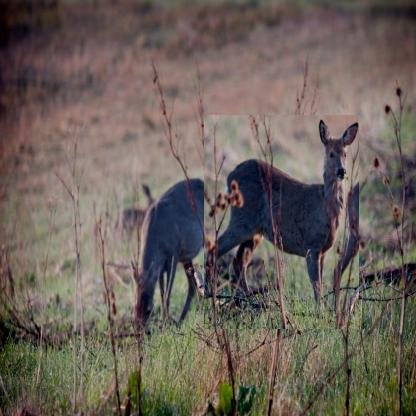Deer: (204, 115, 359, 329), (127, 174, 236, 342)
